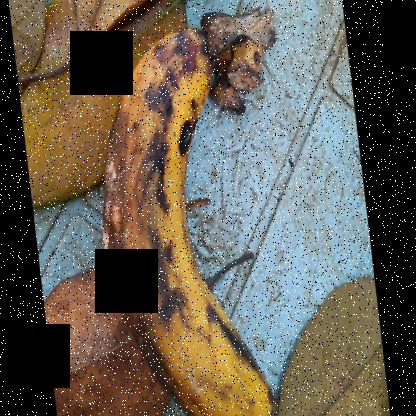rotten: (84, 12, 290, 415)
